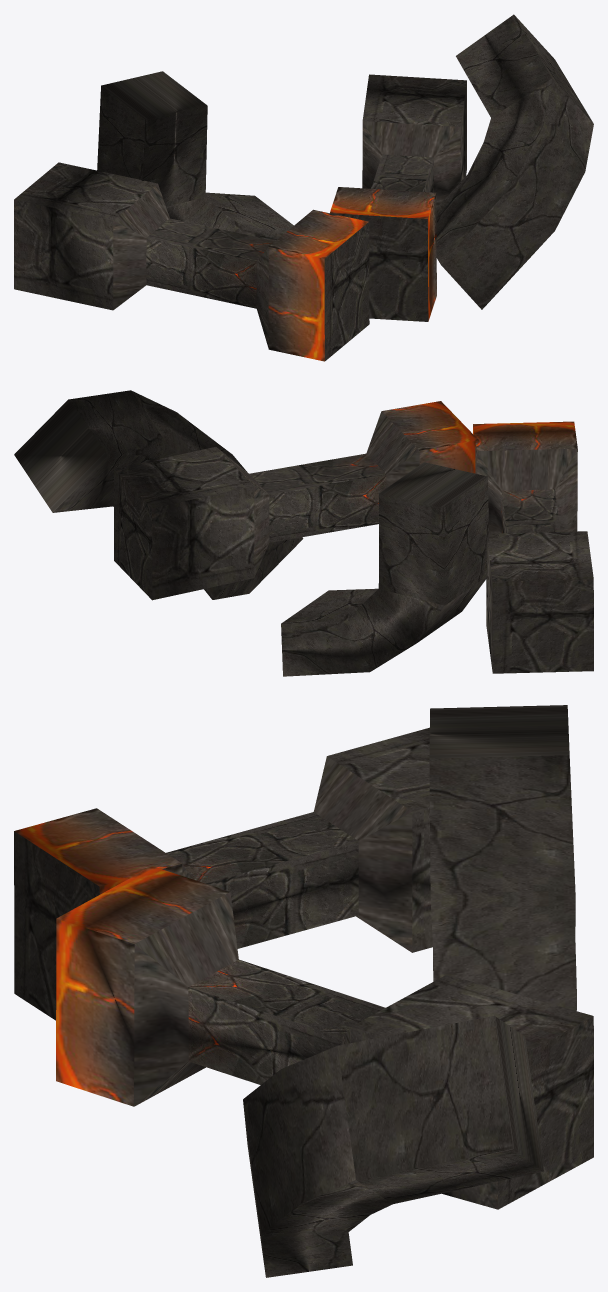
Rendered from gate-destr_02.obj.
3 renders of one model, top to bottom at view 1: azimuth 30°, elevation 25°; view 2: azimuth 150°, elevation 25°; view 3: azimuth 270°, elevation 25°, orthographic. The views are drawn at different scales.
Visible parts, largest first — view 1: (null); view 2: (null); view 3: (null).
Boxes of the visible parts, <box> form: (null): <box>14,14,593,361</box>; (null): <box>14,390,593,676</box>; (null): <box>14,705,593,1277</box>.
Bounding box in the file's own units: 6.22 × 2.41 × 3.58.
